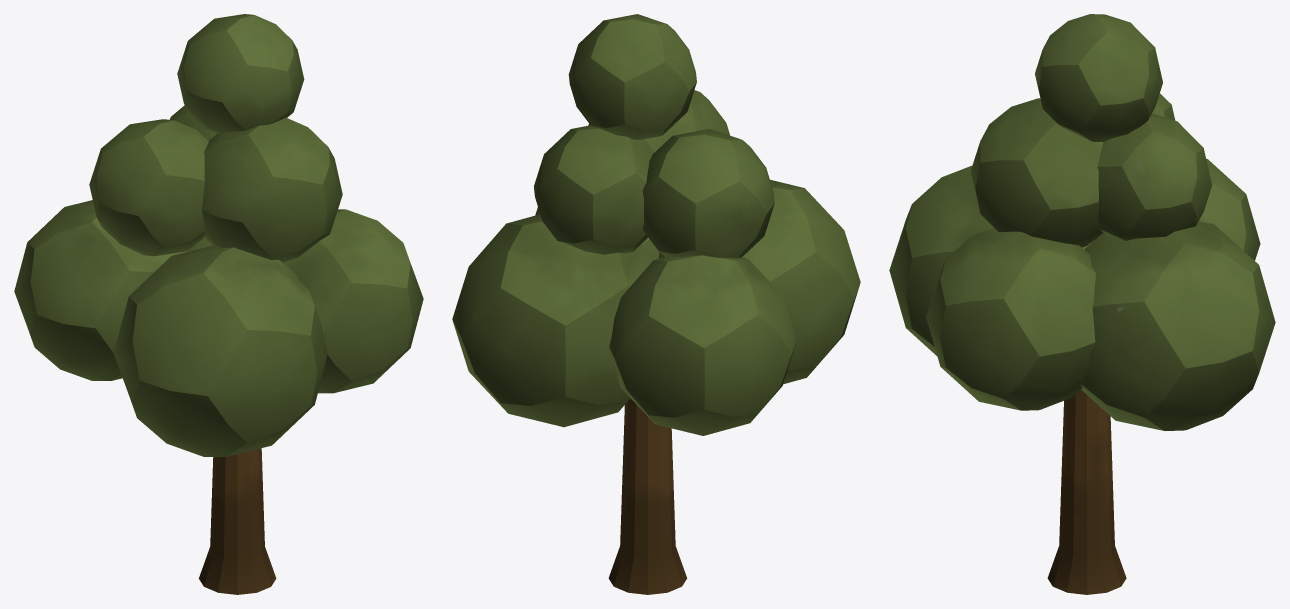
File: pohon_1.fbx
3 renders of one model, left to right at view 1: azimuth 30°, elevation 25°; view 2: azimuth 150°, elevation 25°; view 3: azimuth 270°, elevation 25°, orthographic.
Visible parts, largest first — view 1: pPlatonic1, pPlatonic3, pPlatonic5, pPlatonic2, pPlatonic7, pPlatonic8, pCylinder1; view 2: pPlatonic4, pPlatonic3, pPlatonic7, pPlatonic1, pPlatonic8, pPlatonic6, pCylinder1, pPlatonic5; view 3: pPlatonic4, pPlatonic2, pPlatonic5, pPlatonic8, pPlatonic6, pCylinder1, pPlatonic1, pPlatonic3.
Part boxes in pixels (x1,y1,x2,y2): pPlatonic1: [113, 245, 327, 456]; pPlatonic3: [14, 200, 188, 380]; pPlatonic5: [202, 117, 342, 262]; pPlatonic2: [283, 209, 423, 393]; pPlatonic7: [89, 119, 208, 256]; pPlatonic8: [177, 14, 304, 133]; pCylinder1: [199, 448, 276, 594]; pPlatonic4: [452, 214, 652, 427]; pPlatonic3: [609, 255, 796, 435]; pPlatonic7: [642, 129, 774, 258]; pPlatonic1: [658, 179, 860, 384]; pPlatonic8: [568, 14, 696, 139]; pPlatonic6: [534, 125, 654, 254]; pCylinder1: [608, 398, 687, 594]; pPlatonic5: [588, 90, 729, 152]; pPlatonic4: [1080, 221, 1275, 430]; pPlatonic2: [926, 227, 1095, 410]; pPlatonic5: [970, 98, 1103, 247]; pPlatonic8: [1035, 14, 1162, 141]; pPlatonic6: [1097, 113, 1211, 240]; pCylinder1: [1047, 390, 1126, 594]; pPlatonic1: [889, 165, 1094, 355]; pPlatonic3: [1095, 159, 1260, 260].
Size of the model in its own units: 2.83 by 4.81 by 2.99.
